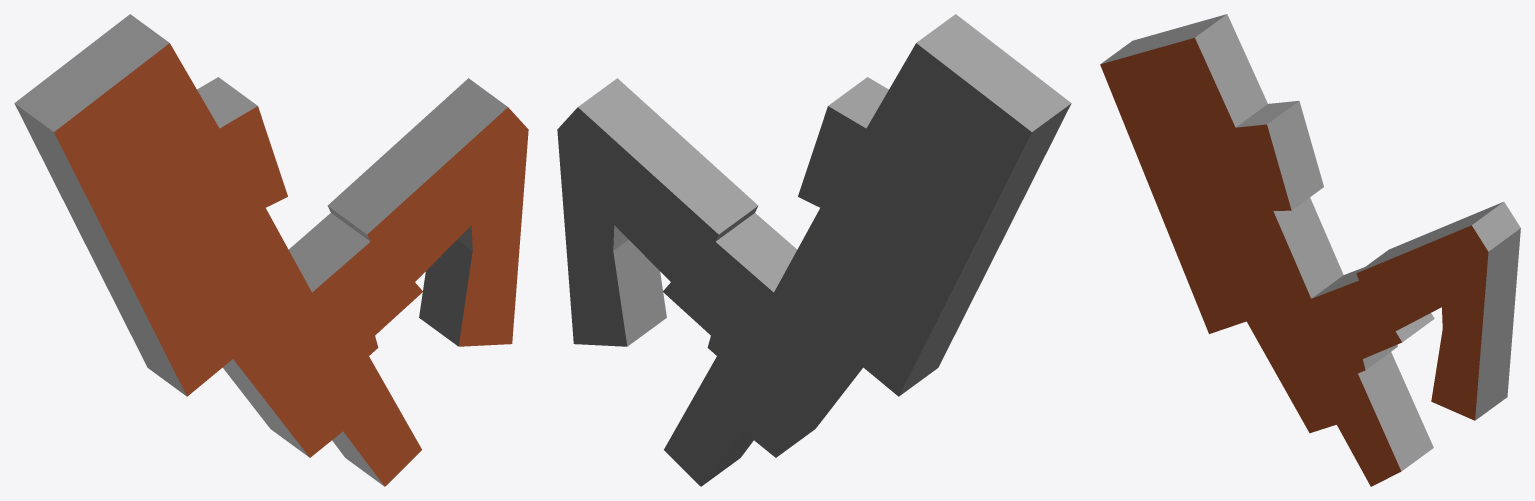
File: construction_6025_assumed_A_Casa_h6m.obj
3 views of the same model, side by side, from view 1: azimuth 30°, elevation 25°; view 2: azimuth 150°, elevation 25°; view 3: azimuth 330°, elevation 25° (orthographic). The views are drawn at different scales.
Visible parts, largest first — view 1: construction_6025_assumed_A_Casa; view 2: construction_6025_assumed_A_Casa; view 3: construction_6025_assumed_A_Casa.
Boxes of the visible parts, left/top/right/bottom form: construction_6025_assumed_A_Casa: left=14, top=14, right=528, bottom=486; construction_6025_assumed_A_Casa: left=557, top=14, right=1071, bottom=486; construction_6025_assumed_A_Casa: left=1100, top=14, right=1520, bottom=486.
Bounding box in the file's own units: 41.5 × 41.48 × 6.
